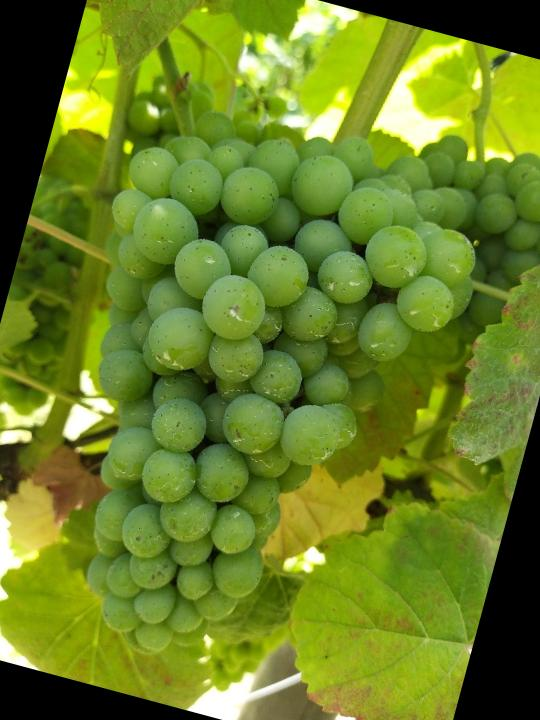grape: (1, 98, 502, 711)
